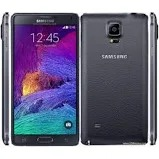samsung: (80, 10, 150, 147), (10, 10, 80, 147)
